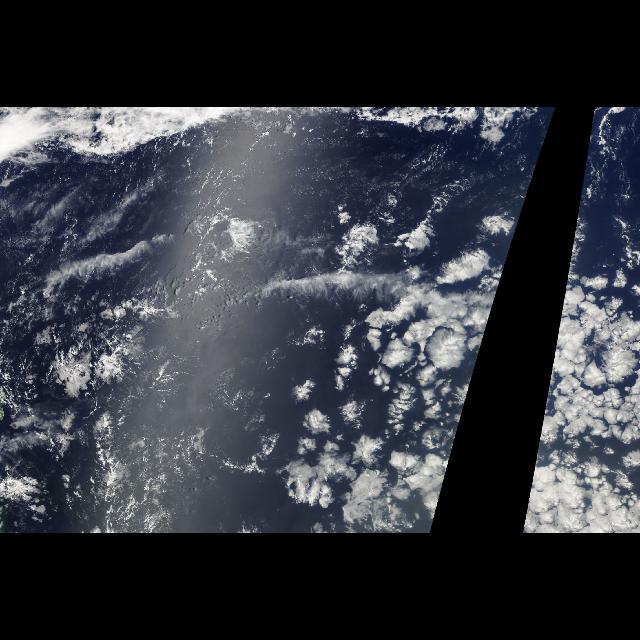Flower: (272, 245, 514, 533), (522, 245, 640, 533)
Gravel: (92, 327, 228, 533)
